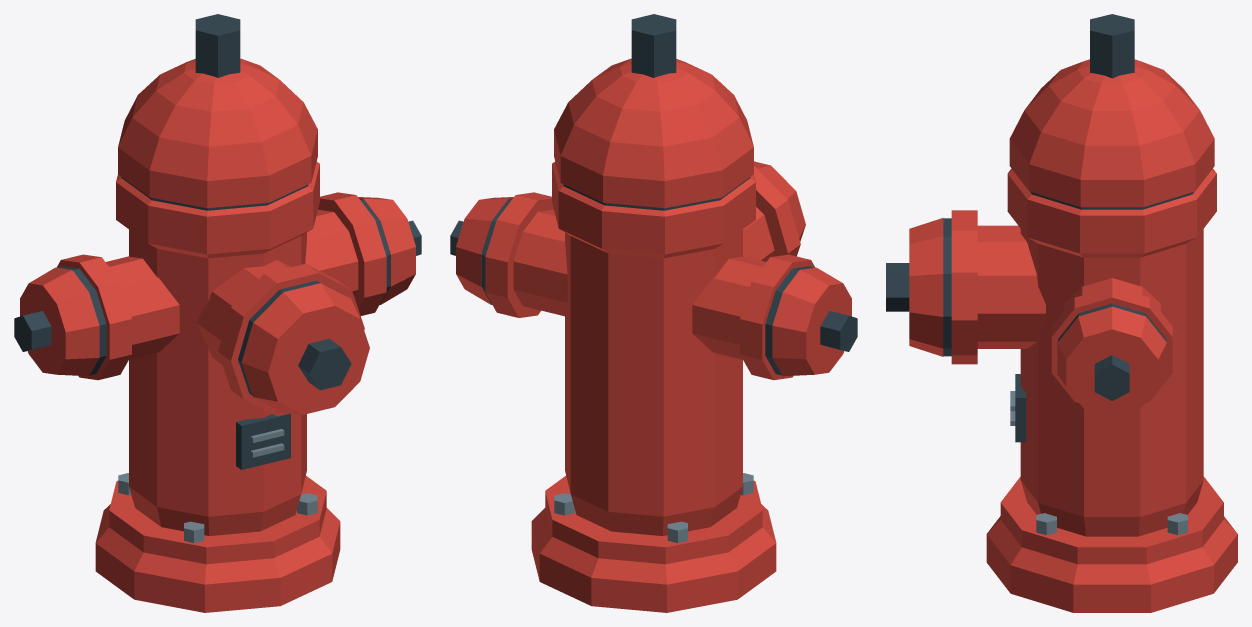
The model's file is fire_hydrant_red.glb.
3 views of the same model, side by side, from view 1: azimuth 30°, elevation 25°; view 2: azimuth 150°, elevation 25°; view 3: azimuth 270°, elevation 25° (orthographic).
Parts seen in each view (by area): view 1: fire_hydrant_red; view 2: fire_hydrant_red; view 3: fire_hydrant_red.
Boxes of the visible parts, x1,y1,x2,y2 form: fire_hydrant_red: (14,14,421,612); fire_hydrant_red: (450,14,857,612); fire_hydrant_red: (886,14,1237,612).
Bounding box in the file's own units: 0.648 × 0.85 × 0.504.
